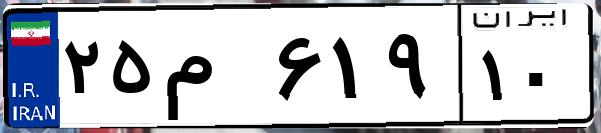0: (525, 38, 570, 115)
1: (330, 28, 385, 110), (475, 38, 525, 113)
2: (57, 26, 110, 100)
5: (110, 28, 158, 98)
6: (270, 28, 330, 110)
9: (385, 28, 445, 110)
م: (158, 20, 270, 120)
